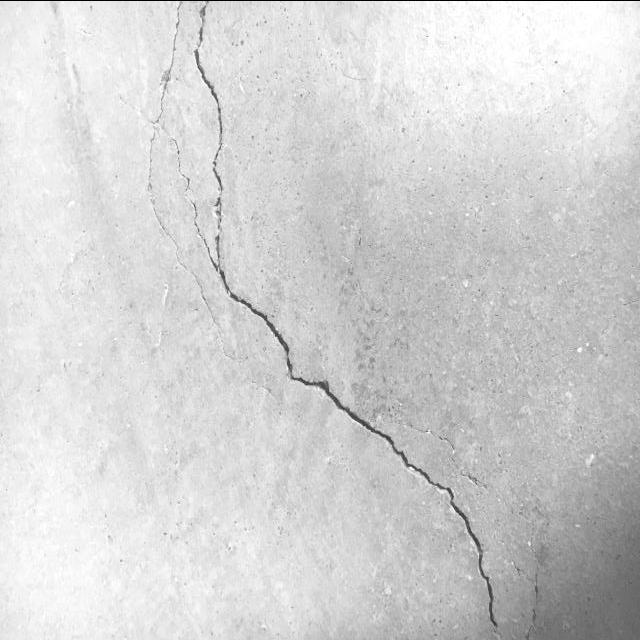SurfaceCrack: (152, 1, 552, 640)
